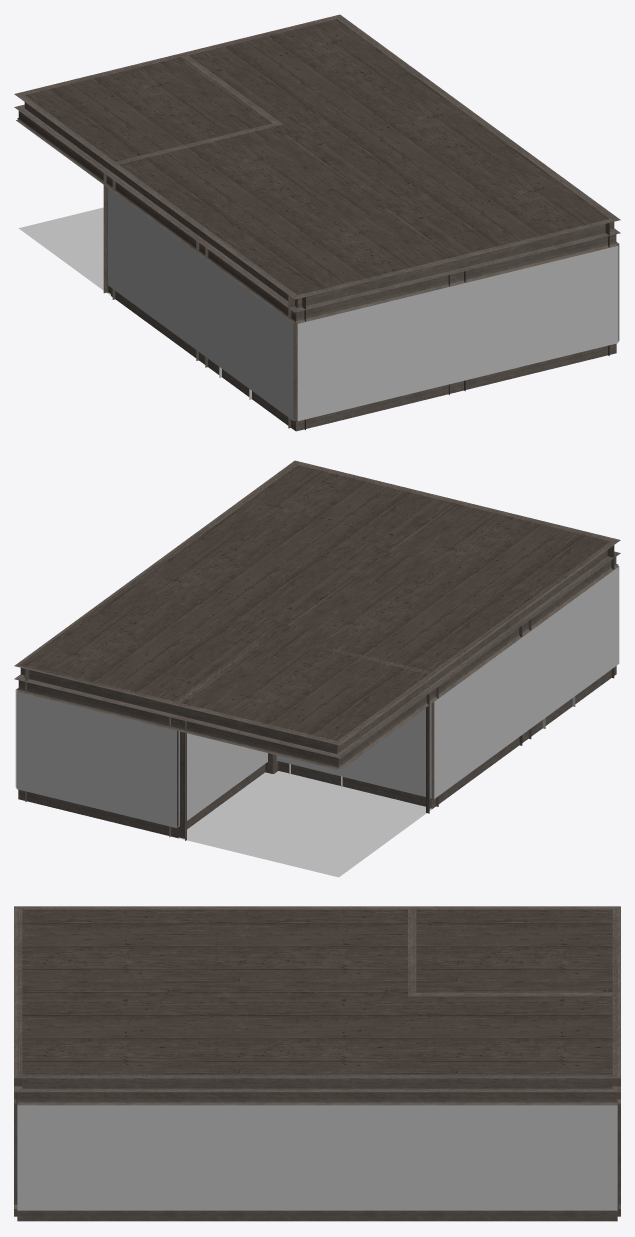
Rendered from house_interior8.fbx.
3 renders of one model, top to bottom at view 1: azimuth 30°, elevation 25°; view 2: azimuth 150°, elevation 25°; view 3: azimuth 270°, elevation 25°, orthographic. The views are drawn at different scales.
Visible parts, largest first — view 1: house_interior8; view 2: house_interior8; view 3: house_interior8.
Part boxes in pixels (x1,y1,x2,y2): house_interior8: (14,14,620,431); house_interior8: (14,460,620,877); house_interior8: (14,906,620,1221).
Bounding box in the file's own units: 1017 × 399 × 1517.
